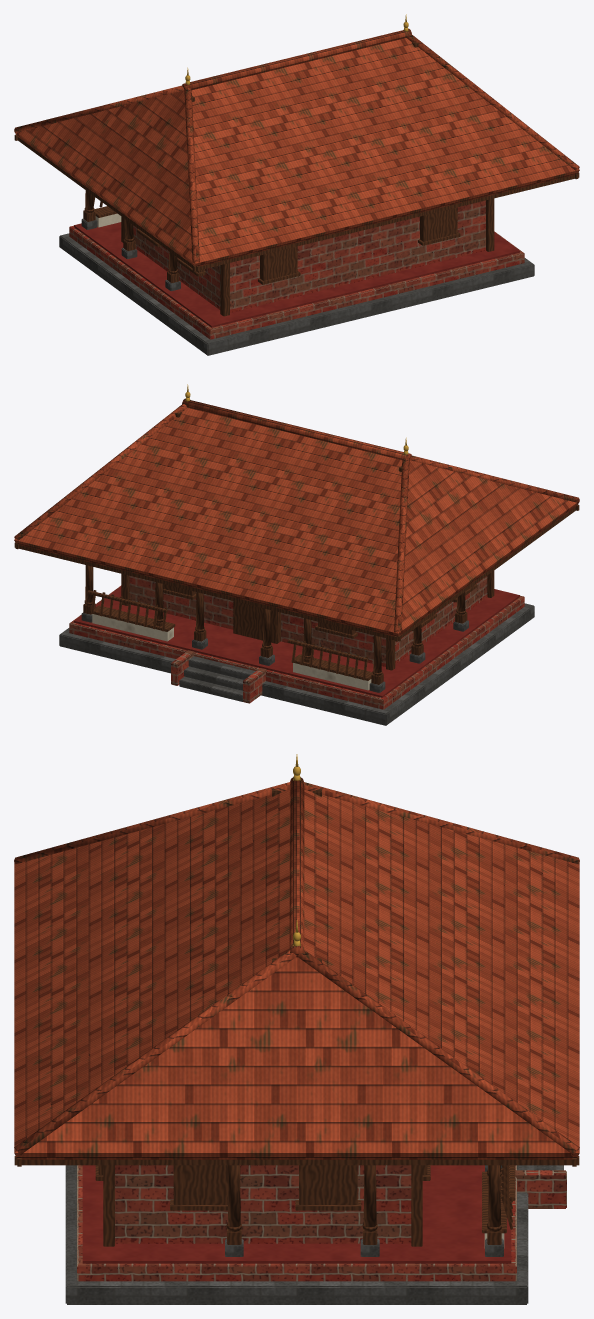
The model's file is tharavadu_ekasala.glb.
3 renders of one model, top to bottom at view 1: azimuth 30°, elevation 25°; view 2: azimuth 150°, elevation 25°; view 3: azimuth 270°, elevation 25°, orthographic. The views are drawn at different scales.
Visible parts, largest first — view 1: tharavadu_ekasala; view 2: tharavadu_ekasala; view 3: tharavadu_ekasala.
Part boxes in pixels (x1,y1,x2,y2): tharavadu_ekasala: (14,14,579,355); tharavadu_ekasala: (14,384,579,725); tharavadu_ekasala: (14,754,579,1304).
Bounding box in the file's own units: 13.29 × 7.27 × 10.83.
8 materials, 8 textured.
